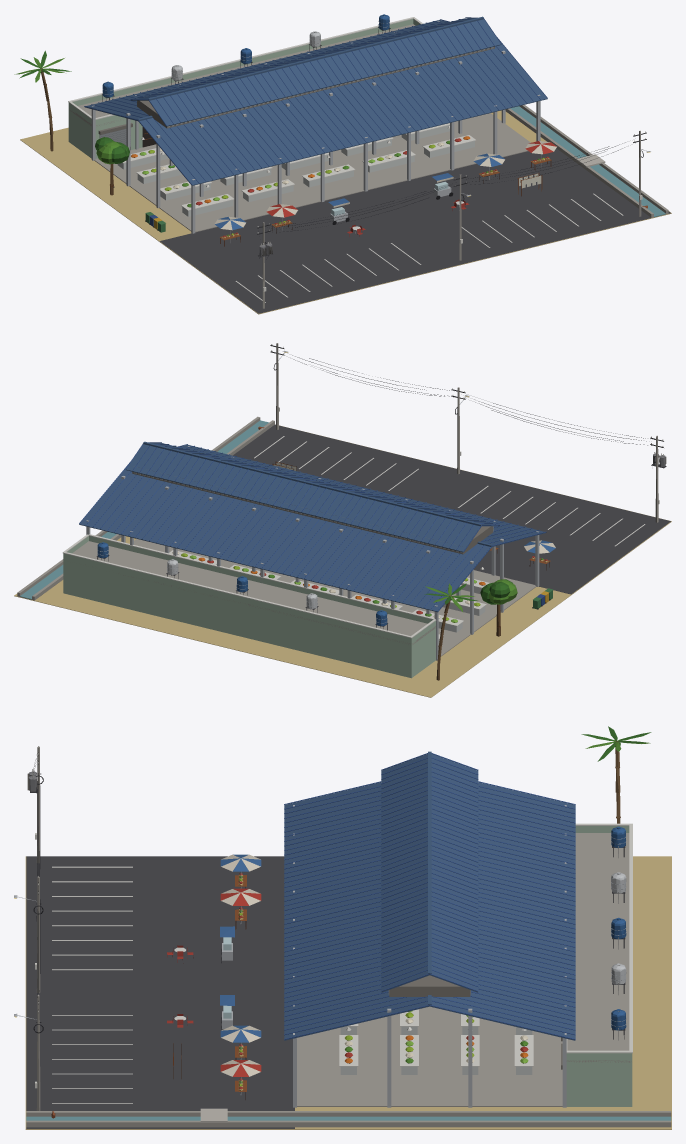
File: market.glb
The picture shows the model from 3 angles, top to bottom: view 1: azimuth 30°, elevation 25°; view 2: azimuth 150°, elevation 25°; view 3: azimuth 270°, elevation 25°; orthographic projection. The views are drawn at different scales.
Parts seen in each view (by area): view 1: body; view 2: body; view 3: body.
Part boxes in pixels (bbox=[...]): body: bbox=[14, 14, 671, 314]; body: bbox=[14, 343, 671, 697]; body: bbox=[14, 726, 671, 1129].
Size of the model in its own units: 50.74 by 10.76 by 48.77.
